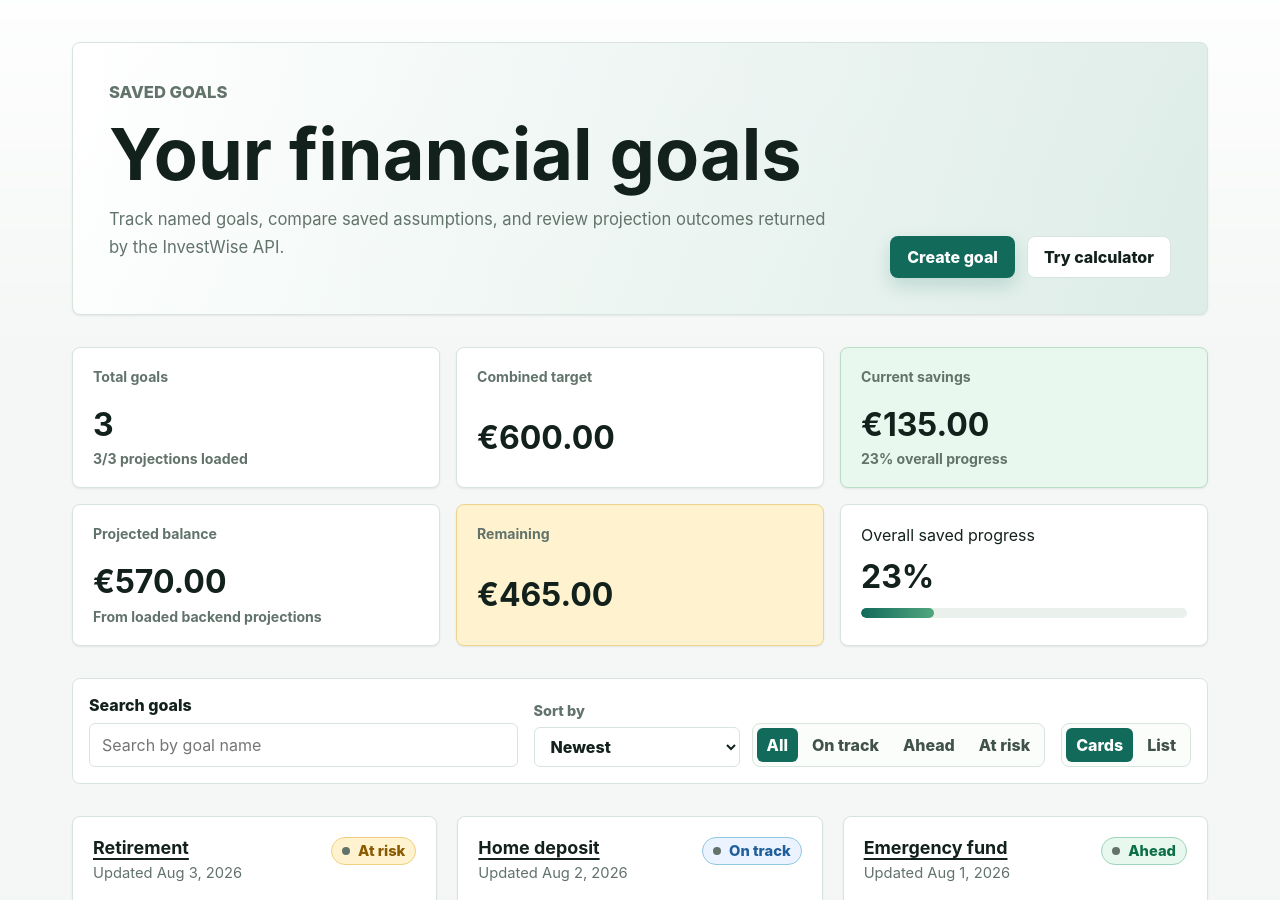
Test: goals dashboard › status filter changes visible goals
Click the button "At risk".
click(1004, 744)  # box [969,728,1040,762]
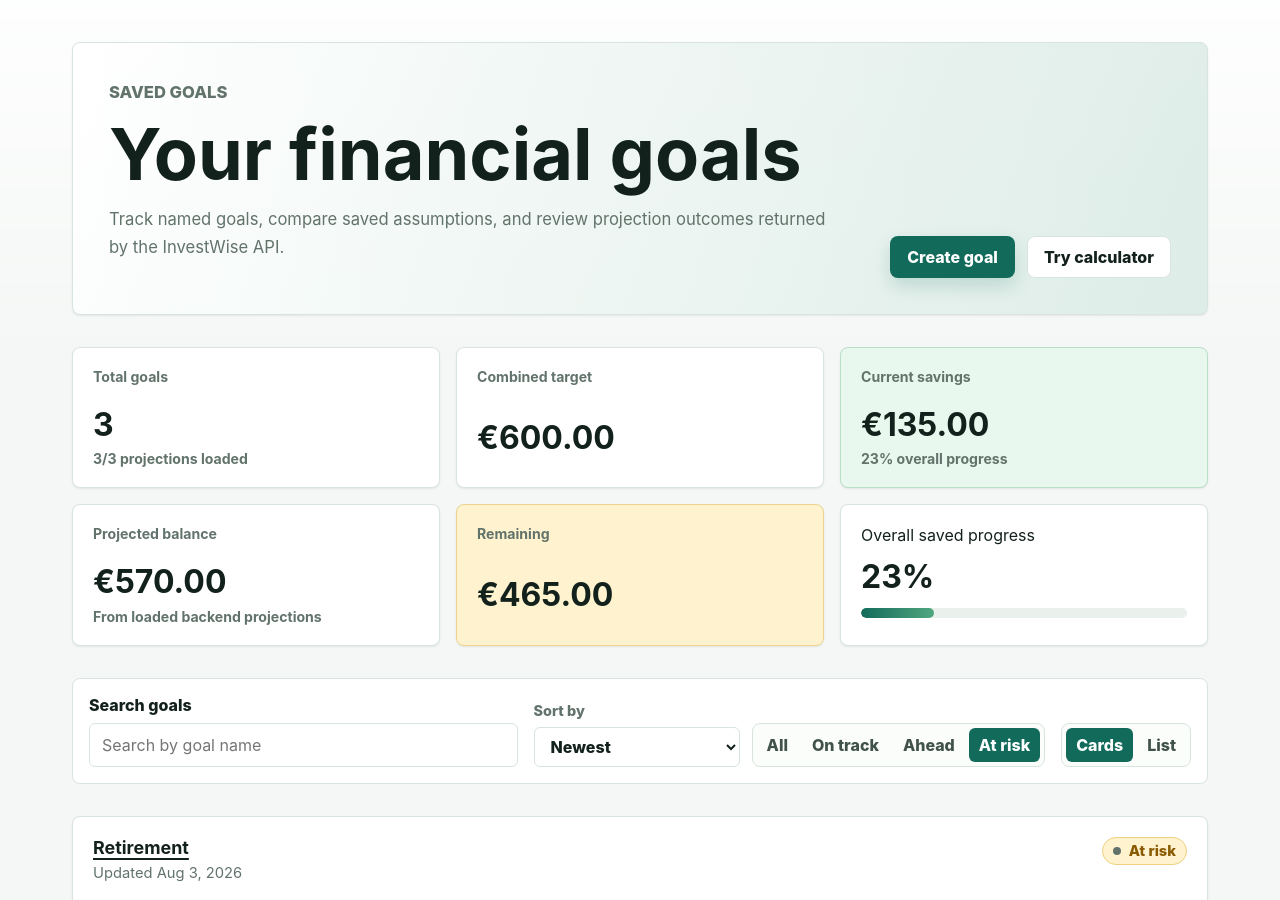
Check: the heading "Retirement" is shown, box [93,836,189,858]
Check: the link "Home deposit" is gone
